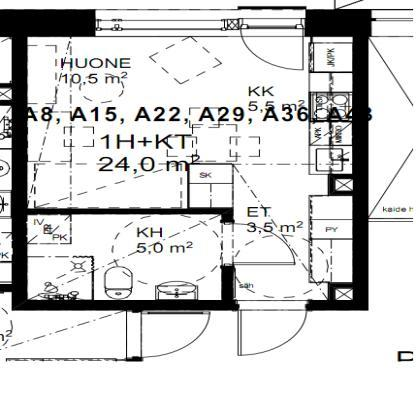bathroom: (21, 212, 228, 305)
door: (131, 308, 221, 365), (232, 299, 314, 360), (234, 15, 309, 74), (213, 222, 298, 271)
perimeter: (10, 11, 366, 309)
window: (92, 13, 235, 34)
